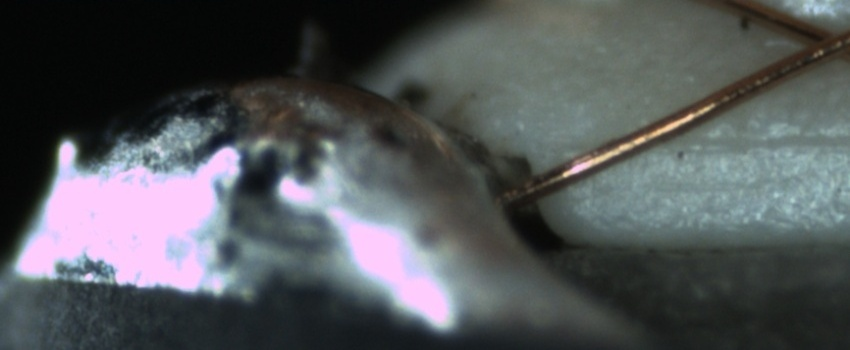CL: (780, 13, 847, 71)
DL: (630, 106, 847, 179)
